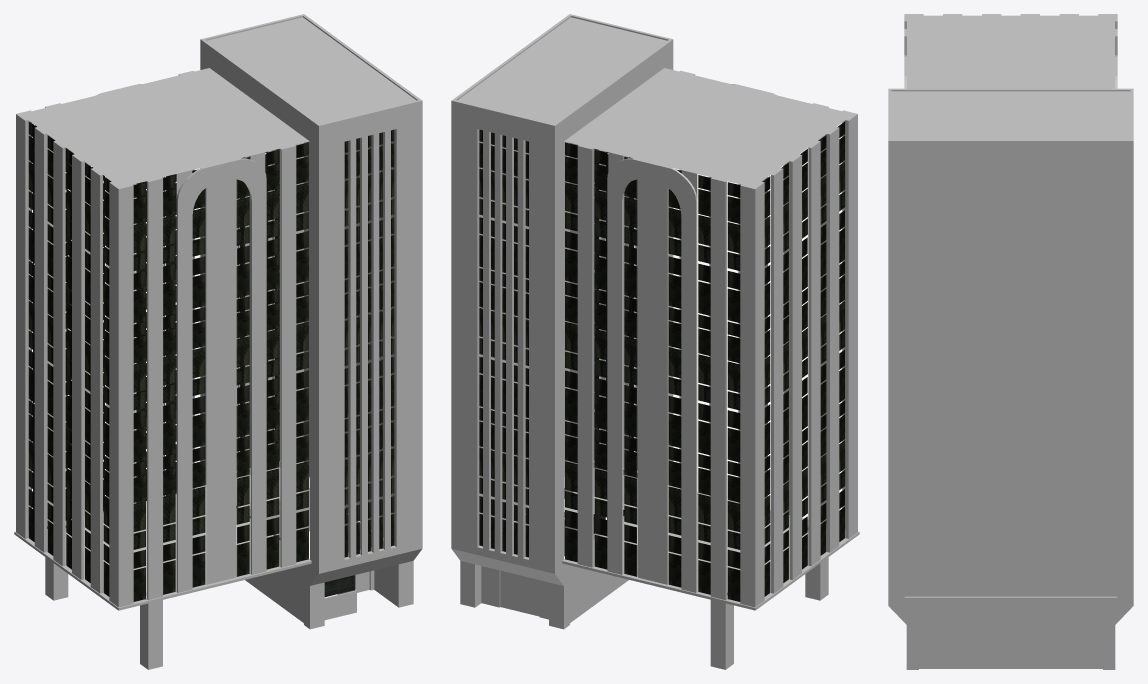
The picture shows the model from 3 angles, left to right: view 1: azimuth 30°, elevation 25°; view 2: azimuth 150°, elevation 25°; view 3: azimuth 270°, elevation 25°; orthographic projection. The views are drawn at different scales.
Visible parts, largest first — view 1: BB-019; view 2: BB-019; view 3: BB-019.
Part boxes in pixels (x1,y1,x2,y2): BB-019: [14, 14, 422, 669]; BB-019: [451, 14, 859, 669]; BB-019: [888, 14, 1133, 669].
Size of what is drawn, in the model's own units: 20.05 by 32.92 by 13.86.
